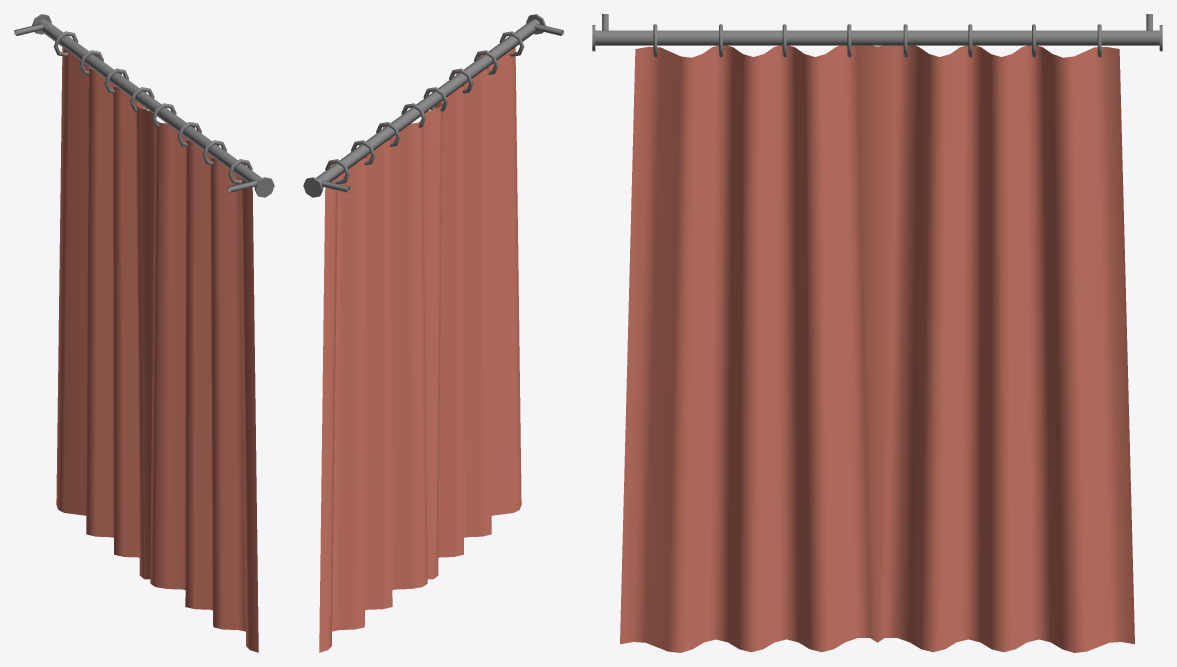
Rendered from m_roomOfPoleDance_curtain.fbx.
The picture shows the model from 3 angles, left to right: view 1: azimuth 30°, elevation 25°; view 2: azimuth 150°, elevation 25°; view 3: azimuth 270°, elevation 25°; orthographic projection. The views are drawn at different scales.
Visible parts, largest first — view 1: m_roomOfPoleDance_curtain; view 2: m_roomOfPoleDance_curtain; view 3: m_roomOfPoleDance_curtain.
Boxes of the visible parts, x1,y1,x2,y2 form: m_roomOfPoleDance_curtain: [14, 14, 274, 652]; m_roomOfPoleDance_curtain: [303, 14, 563, 652]; m_roomOfPoleDance_curtain: [592, 14, 1162, 652].
Bounding box in the file's own units: 27.36 × 258 × 216.
